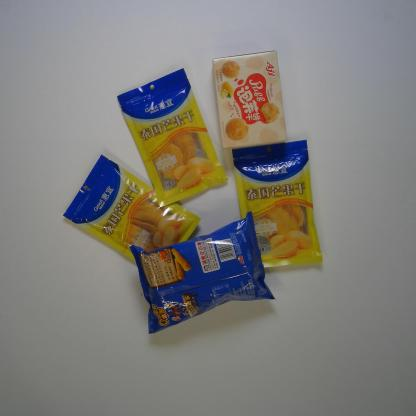Dessert: (212, 48, 288, 150)
Dried Fruit: (61, 154, 202, 274), (115, 68, 228, 210), (230, 138, 324, 270)
Puffed Food: (129, 211, 276, 336)
